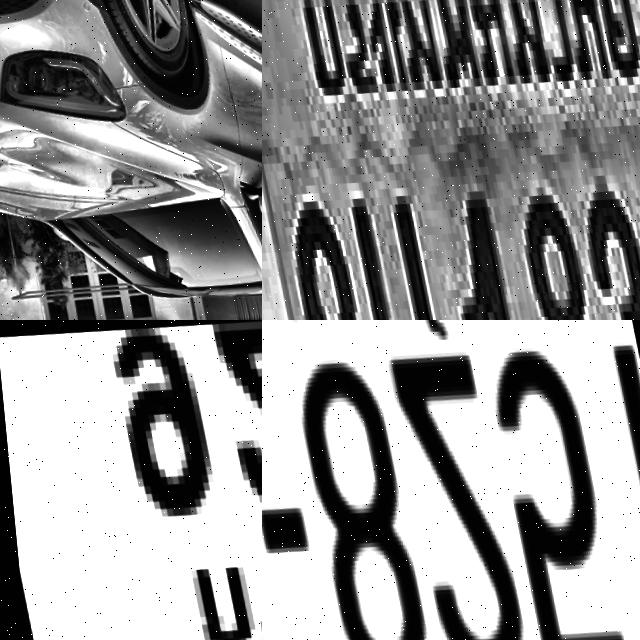license-plate: (262, 0, 640, 320), (262, 320, 640, 640), (0, 320, 262, 640)
